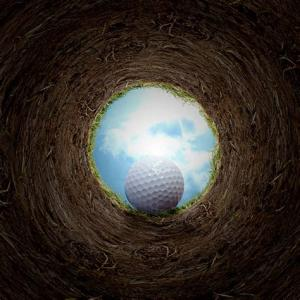Golf: (126, 154, 184, 210)
